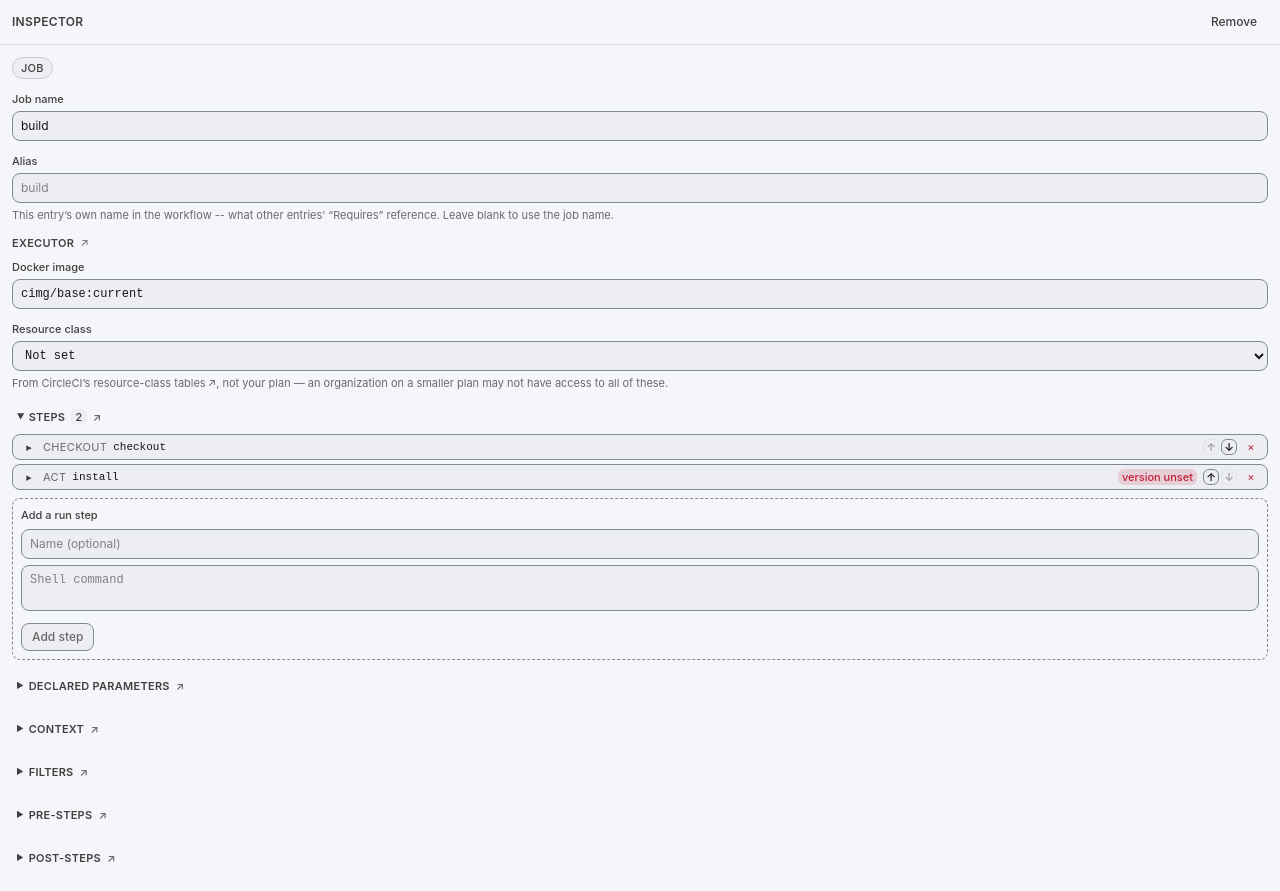
Inspector -- an orb command step is editable (issue #252) › lists the orb's declared parameters even though the step sets none
The image size is (1280, 891).
Click the button named "expand install". click: coordinates (29, 477)
box: x1=21 y1=469 x2=37 y2=485
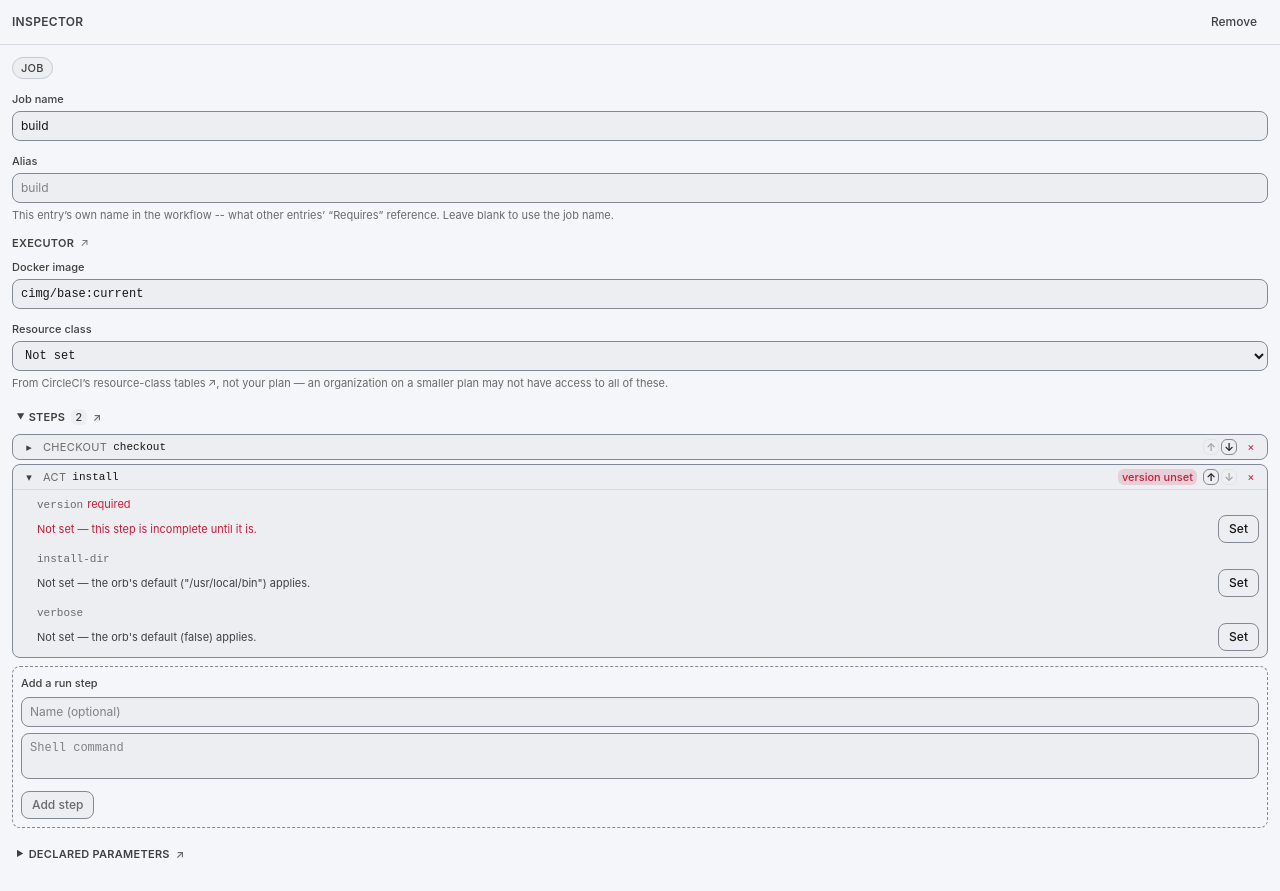
Check: the text "version" is shown, box x1=37 y1=497 x2=83 y2=513
Check: the text "install-dir" is shown, box x1=37 y1=551 x2=110 y2=567
Check: the text "verbose" is shown, box x1=37 y1=605 x2=83 y2=621
